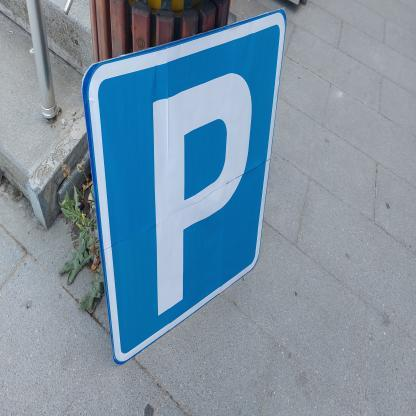parking: (80, 6, 288, 370)
